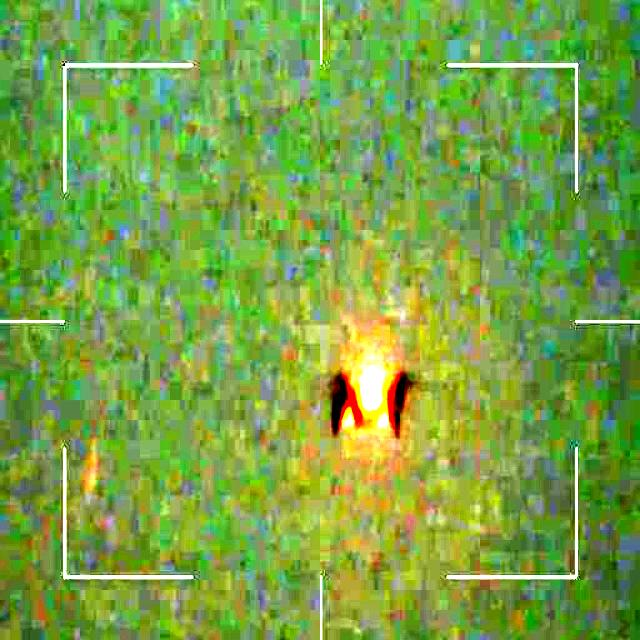bird: (329, 350, 411, 435)
